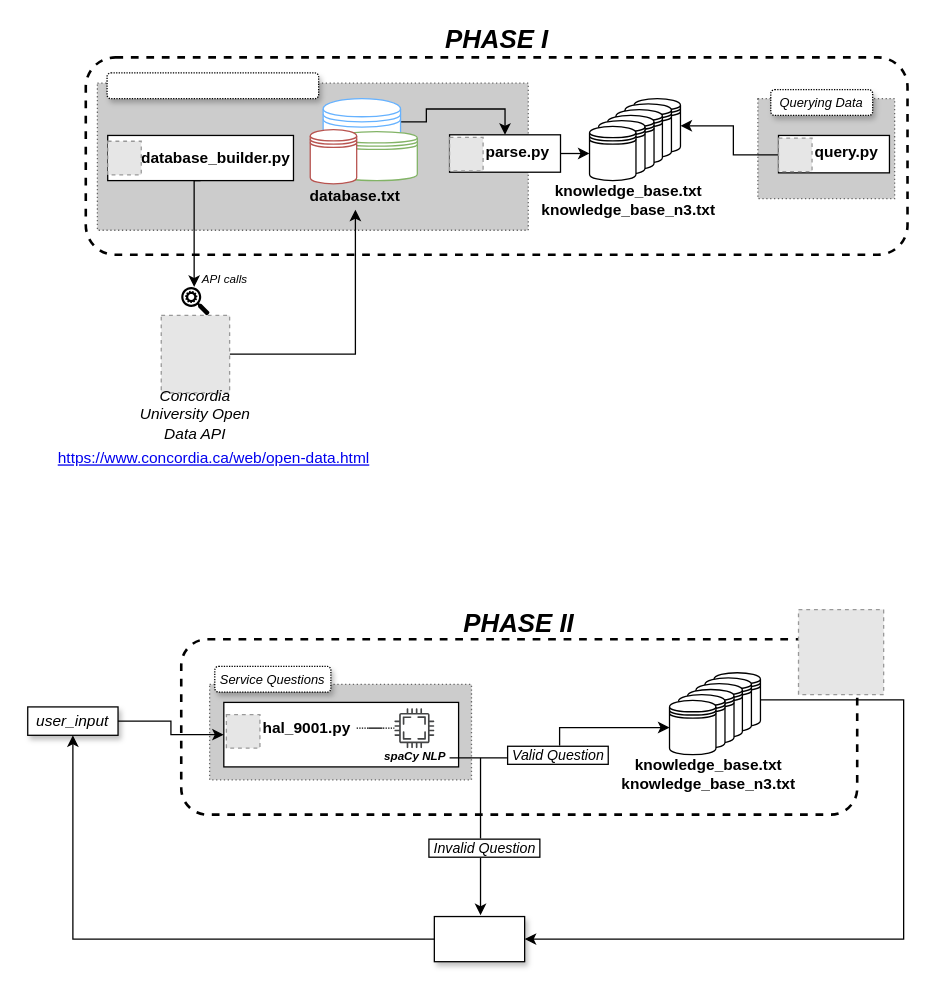
This 937x993 diagram has some shape labels left out. Grey dashed boxes stand in for pictures. The shapes that lost their labels are listed below. From the top down, each one's centre as x and y in pixels, then its label:
At (213,87): "Obtaining and Shaping Data".
At (480,940): "Hal 9001 Response".
